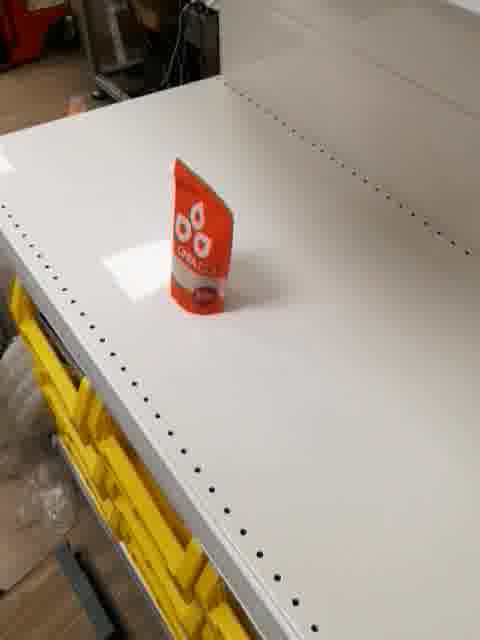whitechia: (166, 153, 240, 320)
